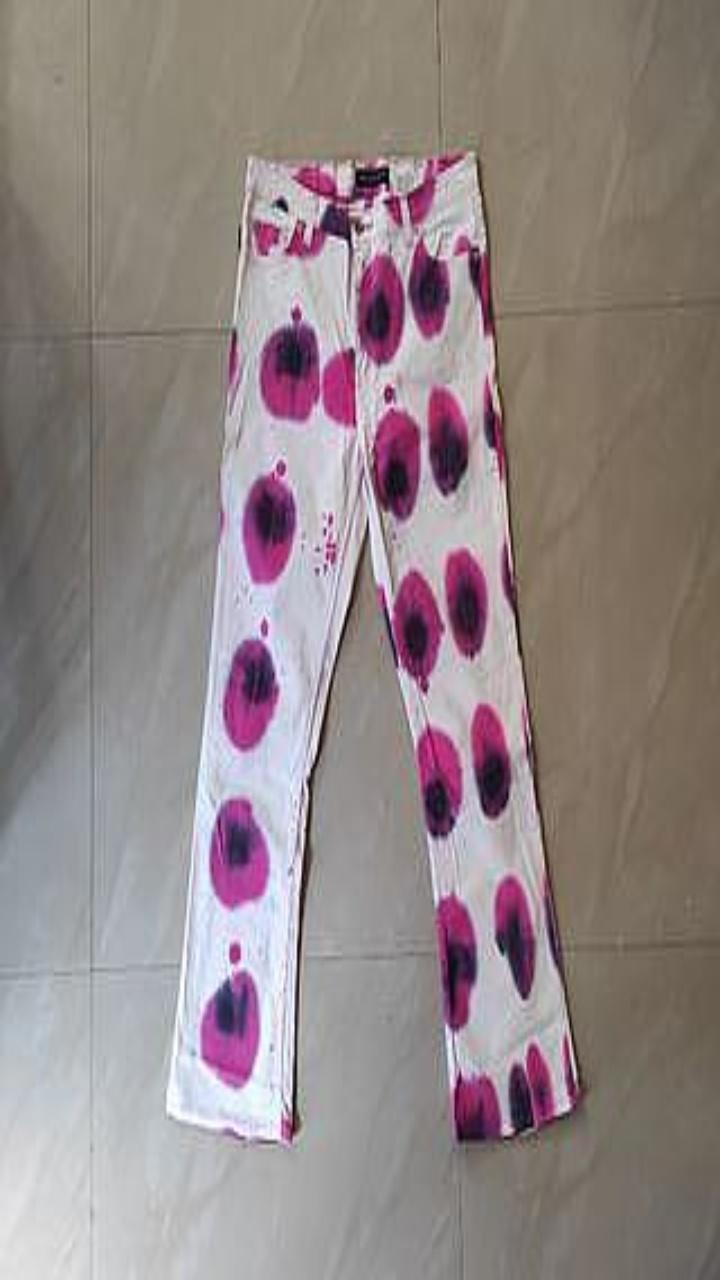Shorts: (166, 150, 579, 1142)
